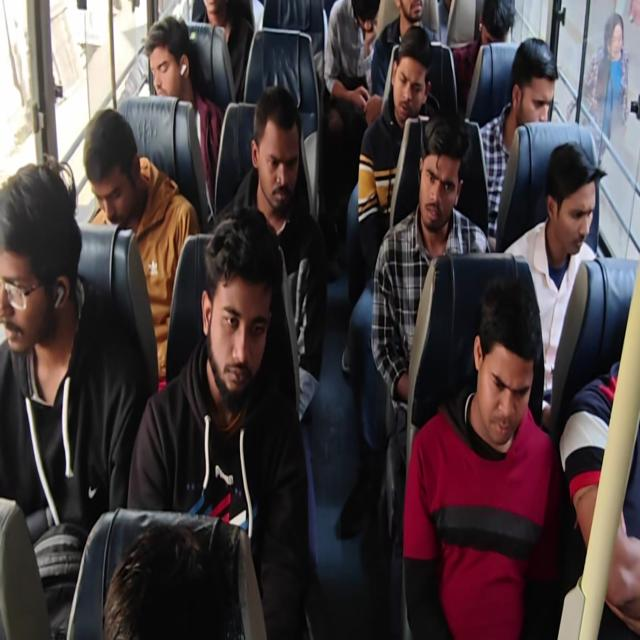person: (0, 166, 72, 347), (194, 227, 275, 383), (462, 305, 526, 444), (536, 150, 596, 252), (251, 115, 313, 211), (132, 41, 195, 120), (84, 136, 136, 222), (454, 2, 516, 66), (516, 58, 555, 142), (389, 58, 433, 130), (418, 143, 459, 218), (339, 0, 381, 44), (190, 0, 228, 41), (390, 0, 431, 36)
